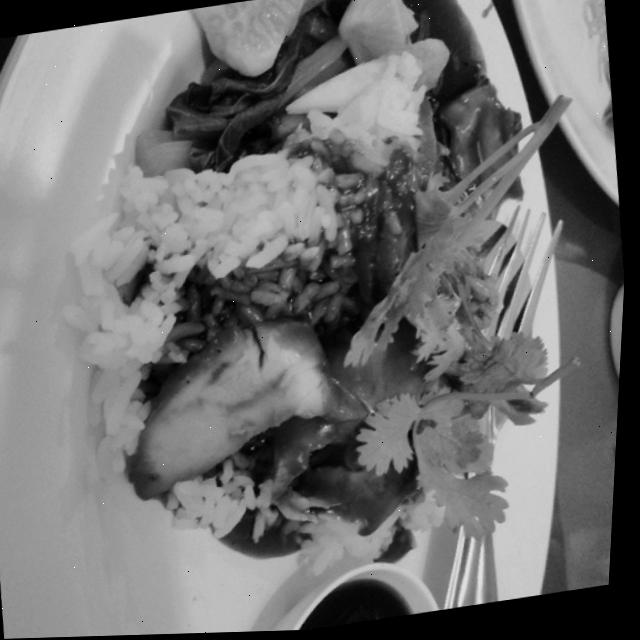猪肉菜式: (2, 0, 631, 621)
